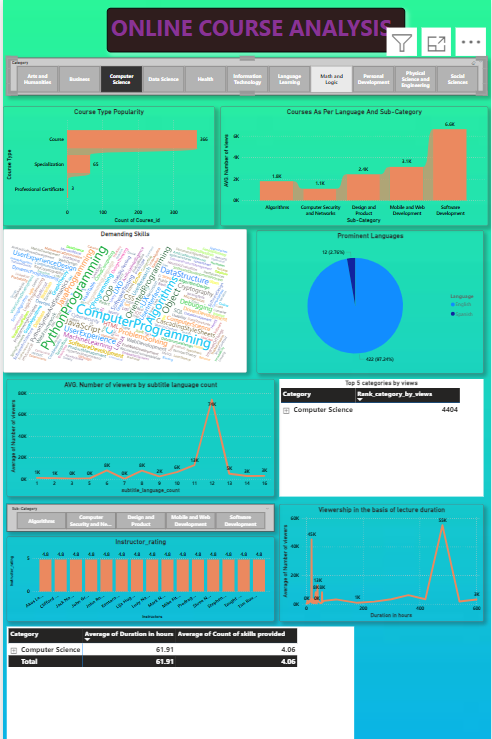

The page's visual inventory and layout, read from the dashboard file:
{"tool":"powerbi","page":{"name":"Page 1","canvas":[1300,2000],"ordinal":0},"visuals":[{"type":"textbox","box":[277.8,24.8,796.1,119],"z":0},{"type":"slicer","fields":{"Values":["Online_Courses.Category"]},"box":[9.1,156.4,1281.8,100],"z":1000},{"type":"barChart","title":"Course Type Popularity","fields":{"Category":["Online_Courses.Course Type"],"Y":["CountNonNull(Online_Courses.Coures_id)"]},"box":[0,285,565,318.3],"z":2000},{"type":"columnChart","title":"Courses As Per Language And Sub-Category","fields":{"Category":["Online_Courses.Sub-Category","Online_Courses.Language"],"Y":["Avg(Online_Courses.Number of viewers)"]},"box":[578.3,285,713.3,318.3],"z":3000},{"type":"WordCloud1447959067750","title":"Demanding Skills","fields":{"Category":["Online_Courses.Skills"]},"box":[0,613.3,650,383.3],"z":4000},{"type":"pieChart","title":"Prominent Languages","fields":{"Category":["Online_Courses.Language"],"Y":["CountNonNull(Online_Courses.Coures_id)"]},"box":[676.7,615,605,381.7],"z":5000},{"type":"pivotTable","title":"Top 5 categories by views","fields":{"Rows":["Online_Courses.Category","Online_Courses.Language"],"Values":["Online_Courses.Rank_category_by_views"]},"box":[736.7,1011.7,545,313.3],"z":6000},{"type":"lineChart","title":"AVG. Number of viewers by subtitle language count","fields":{"Category":["Online_Courses.subtitle_language_count"],"Y":["Avg(Online_Courses.Number of viewers)"]},"box":[8.3,1011.7,713.3,313.3],"z":7000},{"type":"clusteredColumnChart","title":"Instructor_rating ","fields":{"Category":["Teachers.Instructors"],"Y":["Teachers.Instructor_rating"]},"box":[8.3,1433.3,713.3,226.7],"z":8000},{"type":"slicer","fields":{"Values":["Teachers.Sub-Category"]},"box":[8.3,1346.7,713.3,73.3],"z":8001},{"type":"lineChart","title":"Viewership in the basis of lecture duration","fields":{"Category":["Online_Courses.Duration in hours"],"Y":["Avg(Online_Courses.Number of viewers)"]},"box":[736.7,1346.7,545,313.3],"z":8002},{"type":"pivotTable","fields":{"Rows":["Online_Courses.Category","Online_Courses.Sub-Category"],"Values":["Avg(Online_Courses.Duration in hours)","Avg(Online_Courses.Count of skills provided)"]},"box":[8.3,1671.7,926.7,328.3],"z":8003}]}

Visuals, with their boxes in screenshot pixels (x1, y1, x2, y2), scaled from the page's 1300x2000 canvas onto the 492x739 screenshot:
textbox: bbox=(105, 9, 406, 53)
slicer - Online_Courses.Category: bbox=(3, 58, 489, 95)
"Course Type Popularity" barChart: bbox=(0, 105, 214, 223)
"Courses As Per Language And Sub-Category" columnChart: bbox=(219, 105, 489, 223)
"Demanding Skills" WordCloud1447959067750: bbox=(0, 227, 246, 368)
"Prominent Languages" pieChart: bbox=(256, 227, 485, 368)
"Top 5 categories by views" pivotTable: bbox=(279, 374, 485, 490)
"AVG. Number of viewers by subtitle language count" lineChart: bbox=(3, 374, 273, 490)
"Instructor_rating " clusteredColumnChart: bbox=(3, 530, 273, 613)
slicer - Teachers.Sub-Category: bbox=(3, 498, 273, 525)
"Viewership in the basis of lecture duration" lineChart: bbox=(279, 498, 485, 613)
pivotTable - Online_Courses.Category x Online_Courses.Sub-Category: bbox=(3, 618, 354, 738)
